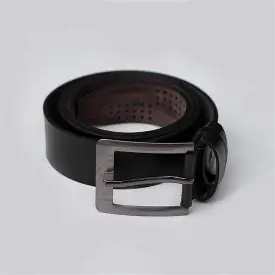sabuk_ada: (37, 67, 234, 205)
